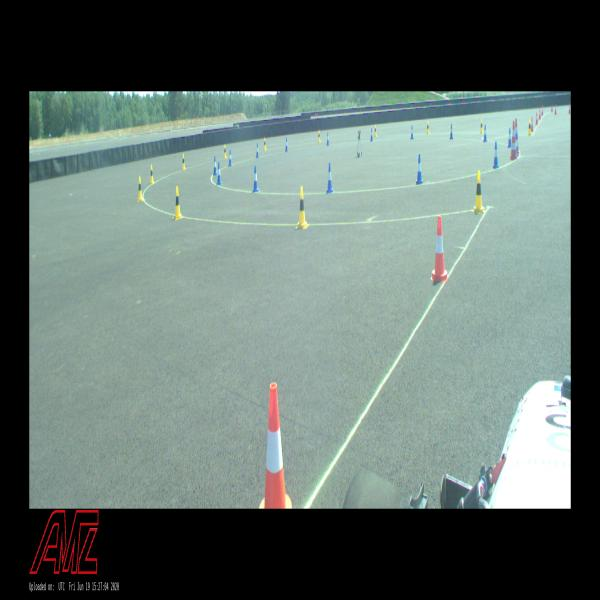blue_cone: (416, 154, 423, 184), (327, 163, 333, 193), (493, 142, 499, 168), (252, 166, 258, 192), (217, 163, 222, 185), (214, 156, 218, 175), (483, 125, 487, 142), (508, 128, 511, 147), (229, 150, 232, 166), (256, 143, 259, 158), (450, 124, 453, 139), (516, 134, 518, 156), (285, 138, 288, 152), (410, 125, 413, 139), (370, 128, 373, 141), (327, 132, 329, 146)
large_orange_cone: (510, 122, 517, 158), (515, 118, 519, 153)
orange_cone: (260, 384, 292, 508), (430, 216, 449, 281), (531, 117, 534, 131), (536, 112, 538, 124), (539, 108, 541, 119), (554, 104, 556, 114), (542, 105, 544, 114), (569, 103, 570, 114)
unknown_cone: (551, 106, 553, 112)
yellow_cone: (474, 171, 484, 212), (298, 186, 306, 229), (174, 186, 182, 219), (138, 176, 143, 200), (150, 164, 154, 183), (528, 120, 531, 135), (182, 154, 185, 169), (480, 119, 483, 133), (374, 125, 377, 136), (427, 121, 429, 134), (224, 145, 226, 158), (264, 138, 266, 150), (318, 131, 320, 142)
